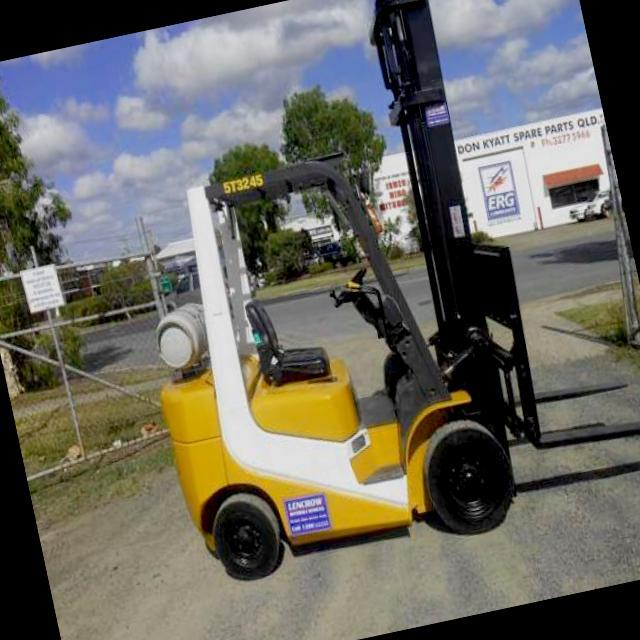forklift: (106, 90, 584, 608)
